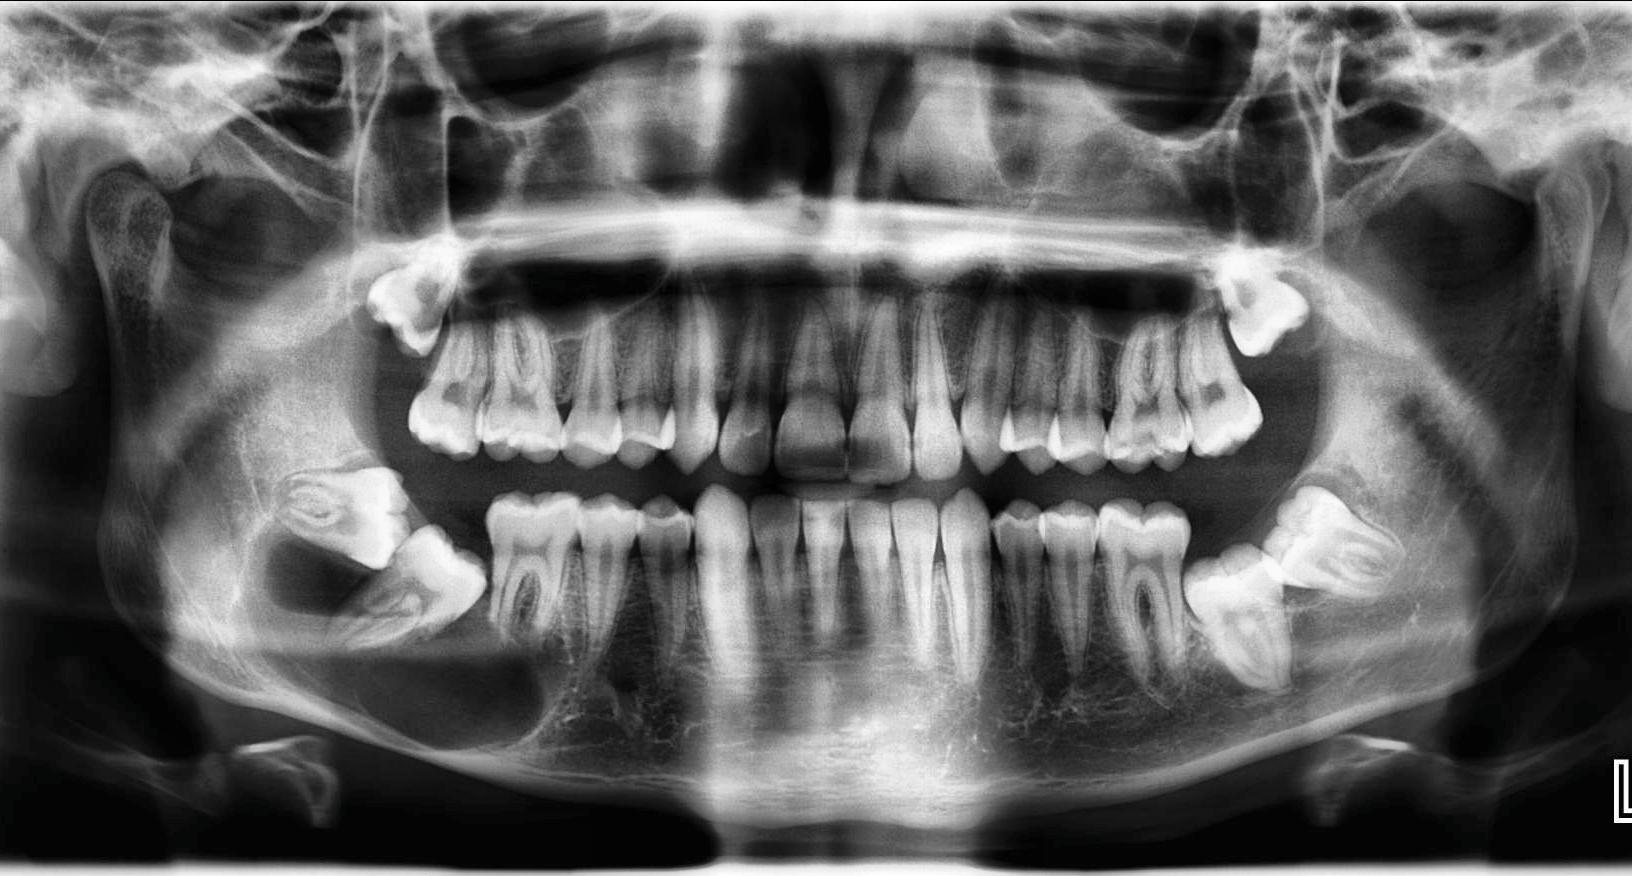enflamatuar: (235, 448, 573, 760), (1157, 469, 1380, 610)
